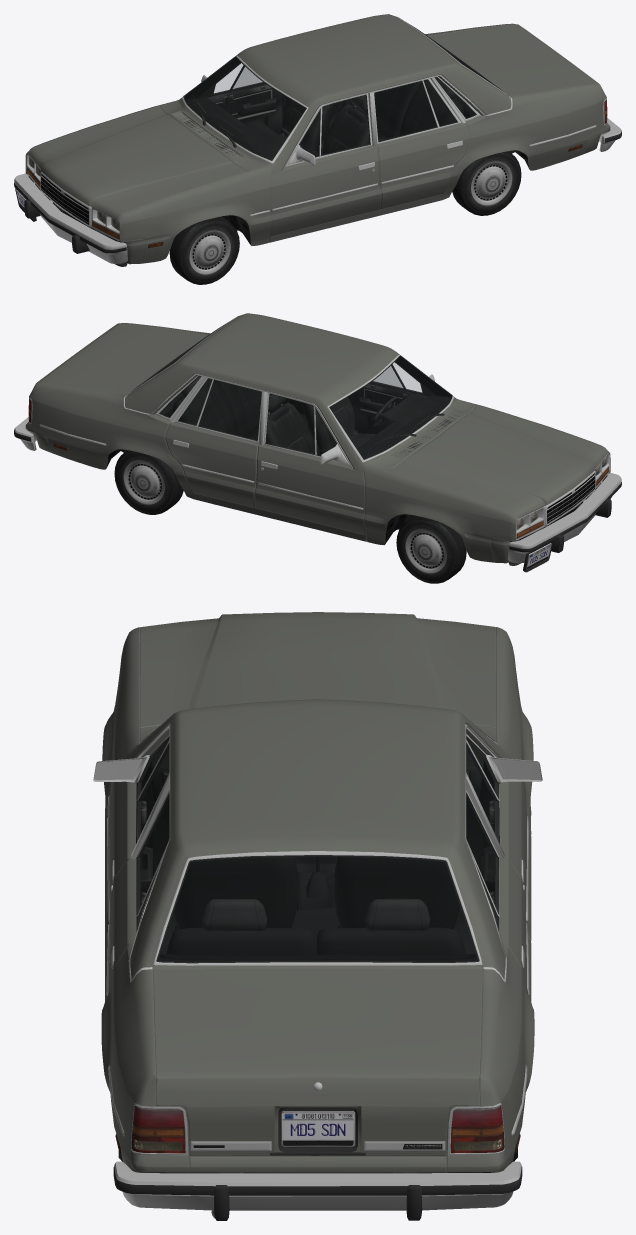
Rendered from sedan80s.glb.
The picture shows the model from 3 angles, top to bottom: view 1: azimuth 30°, elevation 25°; view 2: azimuth 150°, elevation 25°; view 3: azimuth 270°, elevation 25°; orthographic projection. The views are drawn at different scales.
Parts seen in each view (by area): view 1: body_Bodycolor_0, Hood_Bodycolor_0, Door_FL_Bodycolor_0, Seats_GEN4DR_INTERIOR_0, trunk_door_Bodycolor_0, Wiendshield_UCB_GLASS_CLEAN_0, Door_RL_Bodycolor_0, Wheel_FL_RIMSTOCK_05_0, Wheel_RL_RIMSTOCK_05_0, Door_Glass_RL_UCB_GLASS_CLEAN_0, bumper_front_UCB_BOTTOM_0, Door_Glass_FL_UCB_GLASS_CLEAN_0 (+11 smaller); view 2: body_Bodycolor_0, Hood_Bodycolor_0, Seats_GEN4DR_INTERIOR_0, Door_FR_Bodycolor_0, trunk_door_Bodycolor_0, Wiendshield_UCB_GLASS_CLEAN_0, Door_RR_Bodycolor_0, Wheel_FR_RIMSTOCK_05_0, Wheel_RR_RIMSTOCK_05_0, Door_Glass_RR_UCB_GLASS_CLEAN_0, bumper_front_UCB_BOTTOM_0, Bodytrim_UCB_BOTTOM_0 (+11 smaller); view 3: body_Bodycolor_0, trunk_door_Bodycolor_0, Hood_Bodycolor_0, Windows_rear_UCB_GLASS_CLEAN_0, Seats_GEN4DR_INTERIOR_0, bumper_rear_UCB_BOTTOM_0, Bodytrim_UCB_BOTTOM_0, interior_GEN4DR_INTERIOR_0, Trunk_door_inner_UCB_BOTTOM_0, Door_FR_Bodycolor_0, Numberplate_rear_Numberplates_0, Door_FL_Bodycolor_0 (+18 smaller).
Boxes of the visible parts, box(x1,y1,x2,y2) form: body_Bodycolor_0: box(25, 14, 610, 264); Hood_Bodycolor_0: box(28, 106, 248, 218); Door_FL_Bodycolor_0: box(270, 145, 381, 236); Seats_GEN4DR_INTERIOR_0: box(278, 77, 463, 156); trunk_door_Bodycolor_0: box(428, 24, 598, 96); Wiendshield_UCB_GLASS_CLEAN_0: box(184, 57, 305, 159); Door_RL_Bodycolor_0: box(377, 123, 470, 208); Wheel_FL_RIMSTOCK_05_0: box(169, 216, 239, 284); Wheel_RL_RIMSTOCK_05_0: box(452, 151, 521, 215); Door_Glass_RL_UCB_GLASS_CLEAN_0: box(374, 80, 457, 141); bumper_front_UCB_BOTTOM_0: box(14, 173, 127, 263); Door_Glass_FL_UCB_GLASS_CLEAN_0: box(300, 95, 370, 155); body_Bodycolor_0: box(25, 313, 610, 563); Hood_Bodycolor_0: box(388, 405, 607, 517); Seats_GEN4DR_INTERIOR_0: box(173, 376, 376, 455); Door_FR_Bodycolor_0: box(254, 444, 365, 535); trunk_door_Bodycolor_0: box(37, 324, 207, 395); Wiendshield_UCB_GLASS_CLEAN_0: box(330, 356, 451, 458); Door_RR_Bodycolor_0: box(165, 422, 258, 507); Wheel_FR_RIMSTOCK_05_0: box(396, 515, 466, 583); Wheel_RR_RIMSTOCK_05_0: box(114, 450, 183, 514); Door_Glass_RR_UCB_GLASS_CLEAN_0: box(178, 379, 261, 439); bumper_front_UCB_BOTTOM_0: box(508, 472, 621, 572); Bodytrim_UCB_BOTTOM_0: box(39, 315, 454, 468); body_Bodycolor_0: box(101, 627, 534, 1172); trunk_door_Bodycolor_0: box(153, 969, 482, 1156); Hood_Bodycolor_0: box(139, 612, 496, 728); Windows_rear_UCB_GLASS_CLEAN_0: box(158, 856, 477, 961); Seats_GEN4DR_INTERIOR_0: box(166, 857, 465, 954); bumper_rear_UCB_BOTTOM_0: box(113, 1161, 522, 1220); Bodytrim_UCB_BOTTOM_0: box(108, 723, 527, 1153); interior_GEN4DR_INTERIOR_0: box(140, 761, 495, 961); Trunk_door_inner_UCB_BOTTOM_0: box(190, 1082, 445, 1155); Door_FR_Bodycolor_0: box(500, 758, 531, 941); Numberplate_rear_Numberplates_0: box(281, 1111, 355, 1146); Door_FL_Bodycolor_0: box(105, 758, 135, 941).
Bounding box in the file's own units: 4.98 × 1.35 × 1.83.
8 materials, 7 textured.
